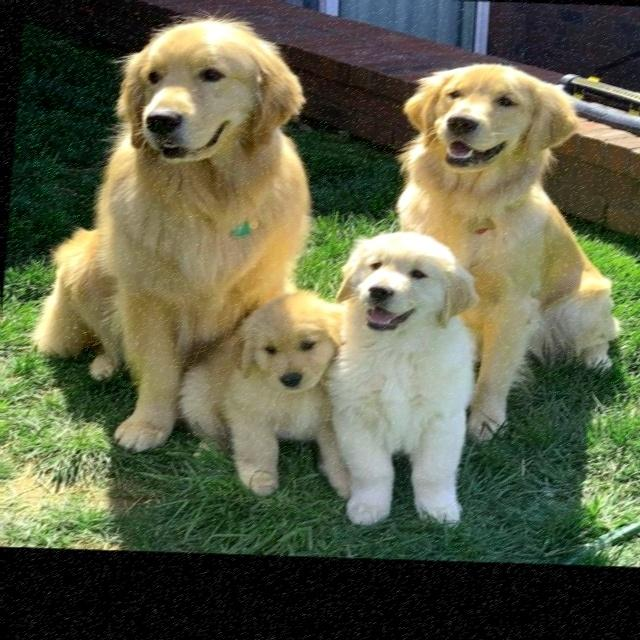dog: (23, 0, 324, 400), (396, 41, 640, 410), (286, 212, 520, 537)
